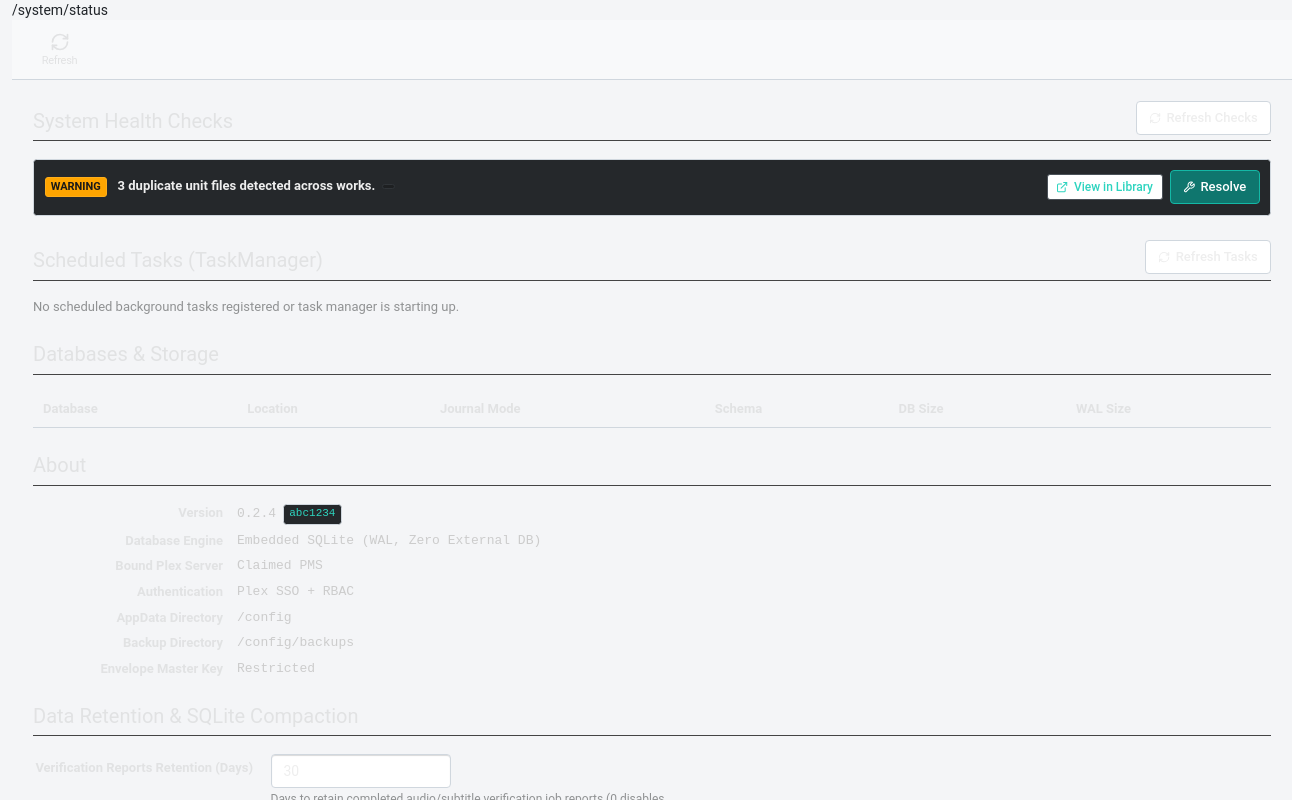
Test: Wave 3–5 Frontend Features (#44, #57, #60, #40) › renders dynamic version + gitCommit, health check actionUrl & resolveAction, and Retention Policy + VACUUM UI in SystemView
Expected: the text "0.2.4" is shown, [237, 505, 276, 524]
Expected: the text "abc1234" is shown, [283, 504, 342, 525]
Step 1. Click the button "Resolve" → (1215, 187), box [1170, 170, 1260, 204]
(page scrolled)
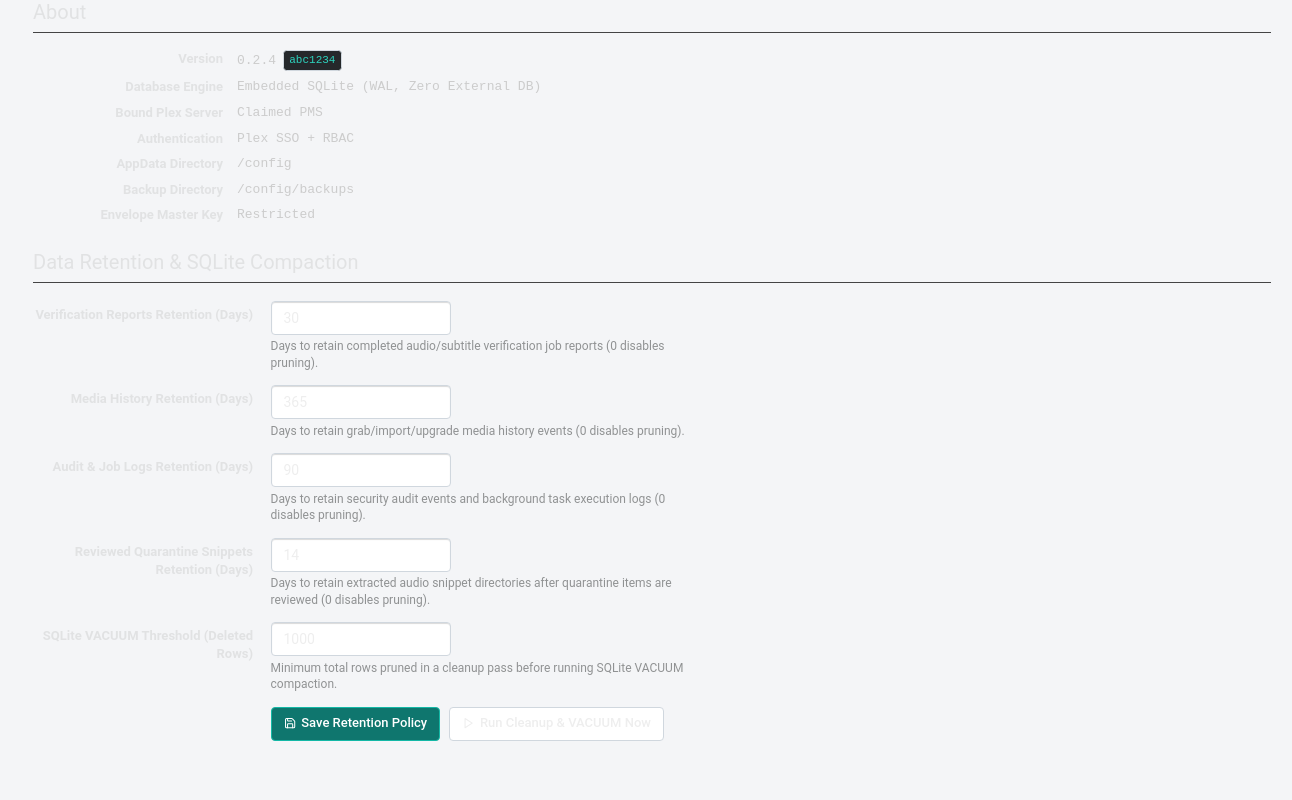
Step 2. Click the button "Save Retention Policy" → (356, 724), box [270, 706, 440, 740]
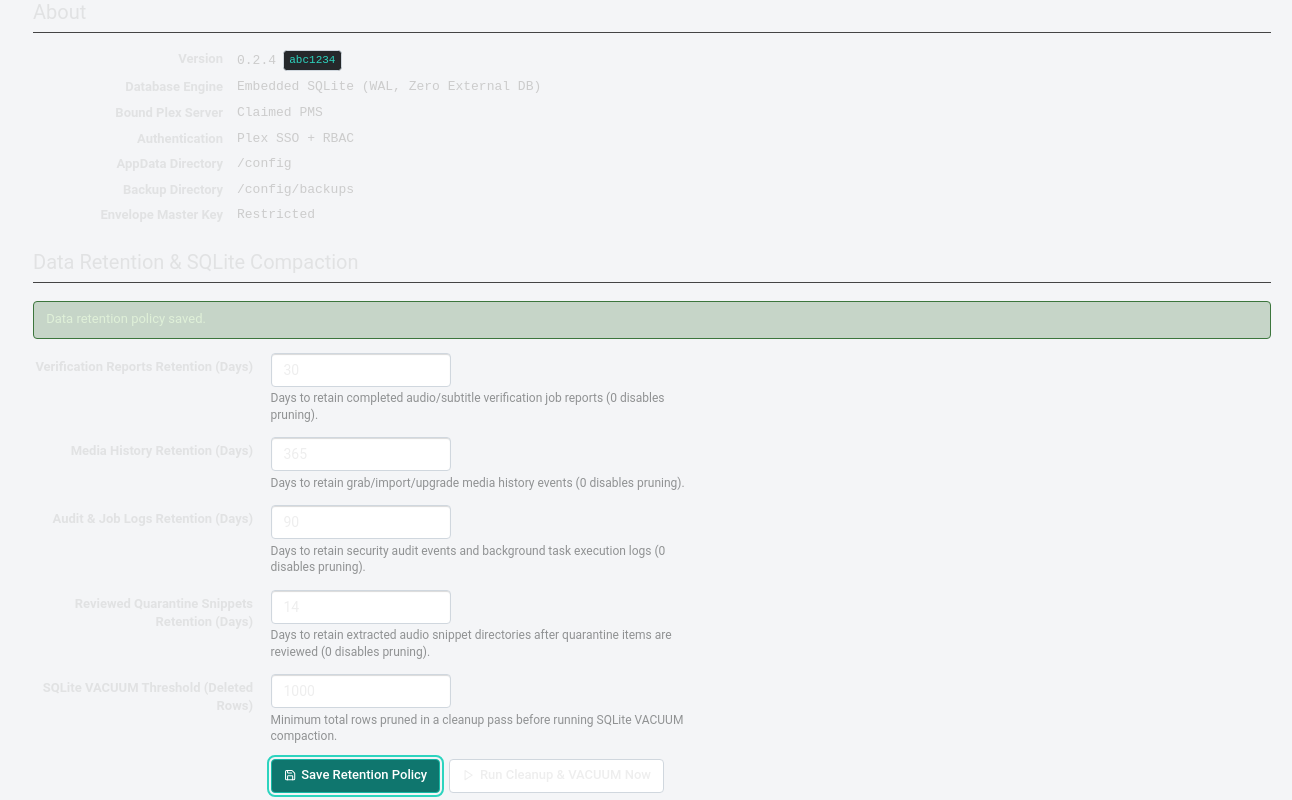
Step 3. Click the button "Run Cleanup & VACUUM Now" → (557, 776), box [449, 759, 664, 793]
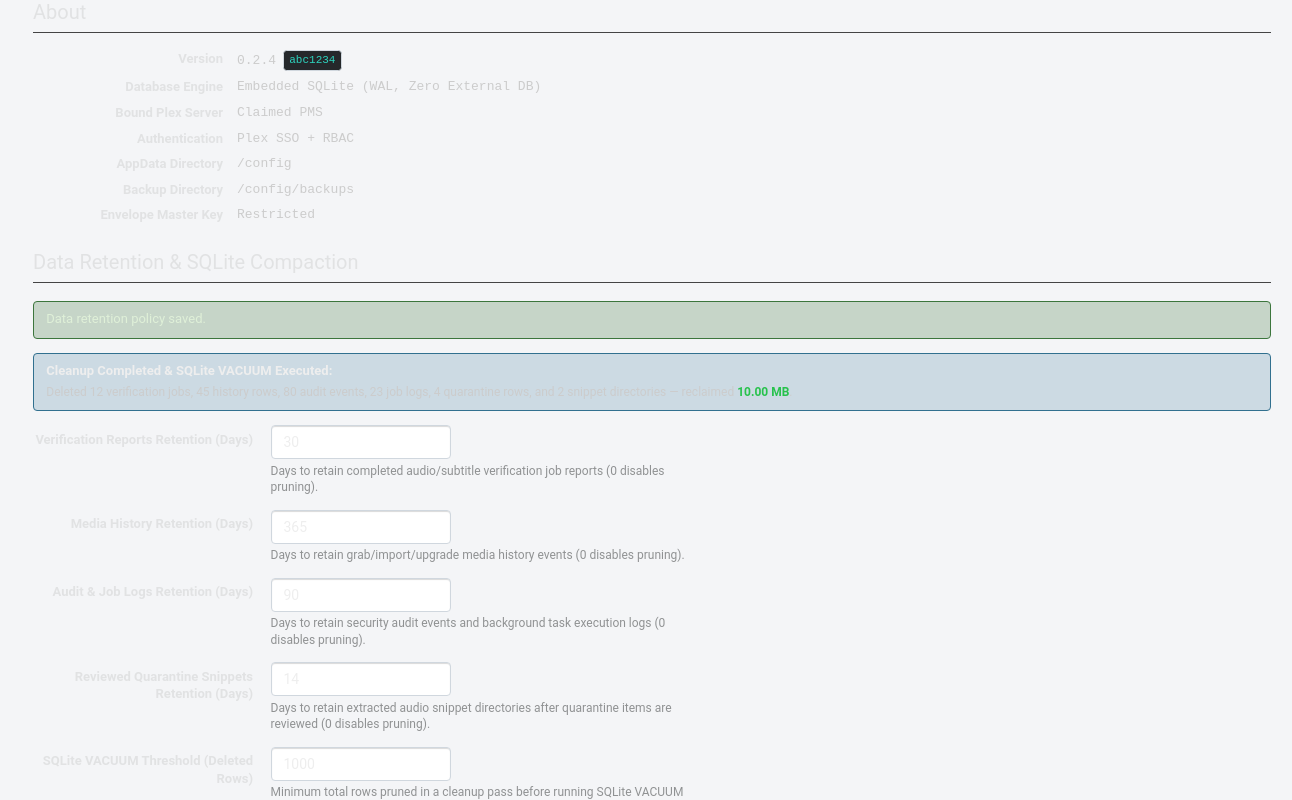
Expected: the text "Cleanup Completed & SQLite VACUUM Executed:" is shown, [46, 363, 332, 378]
Expected: the text "10.00 MB" is shown, [737, 385, 789, 399]
